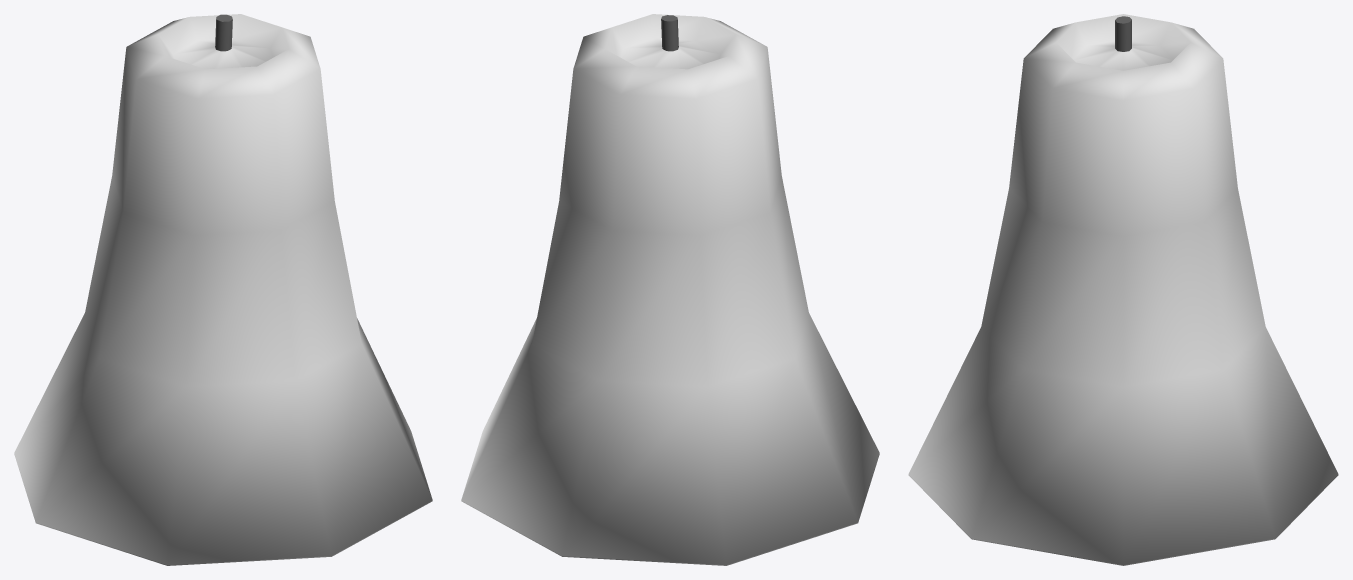
Rendered from candles.fbx.
3 views of the same model, side by side, from view 1: azimuth 30°, elevation 25°; view 2: azimuth 150°, elevation 25°; view 3: azimuth 270°, elevation 25° (orthographic).
Parts seen in each view (by area): view 1: SingleCandle2, SingleCandle1; view 2: SingleCandle2, SingleCandle1; view 3: SingleCandle2, SingleCandle1.
Boxes of the visible parts, x1,y1,x2,y2 form: SingleCandle2: (14, 14, 432, 565); SingleCandle1: (14, 454, 432, 565); SingleCandle2: (461, 14, 879, 565); SingleCandle1: (461, 454, 879, 565); SingleCandle2: (908, 14, 1338, 564); SingleCandle1: (908, 475, 1338, 565).
Bounding box in the file's own units: 1.71 × 1.71 × 2.
